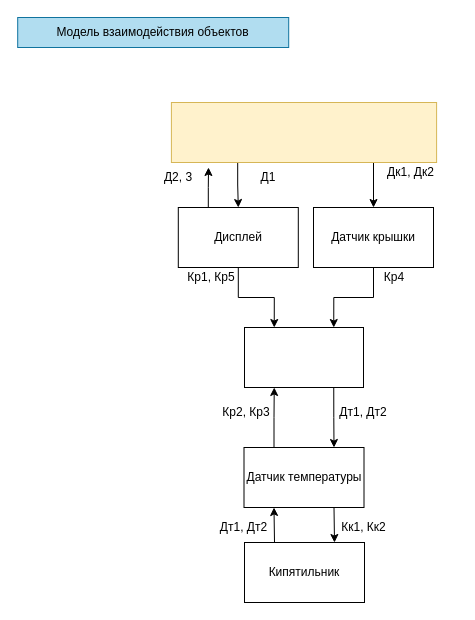
The diagram is 475 pixels wide and 620 high, and some of its shapes have lost their labels. Here are the shapes that lost their labels. From the top down, the centre of each, then its label:
(303,132): Пользователь
(304,357): Контроллер
